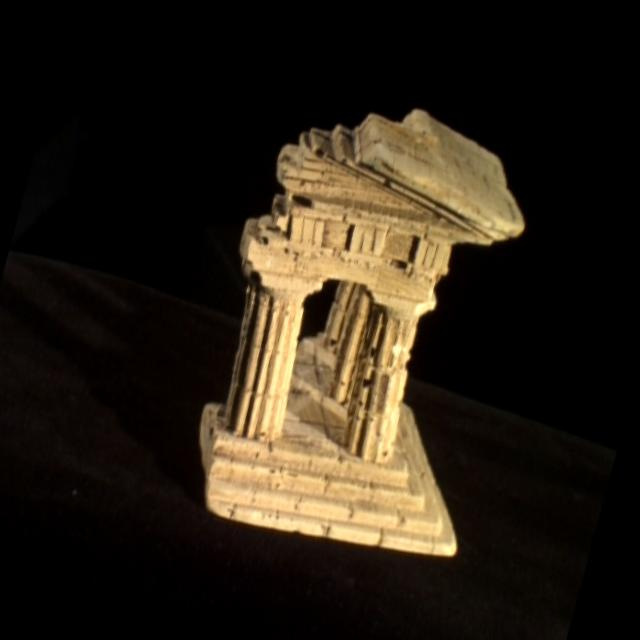Instance-Segmentation: (199, 110, 523, 556)
